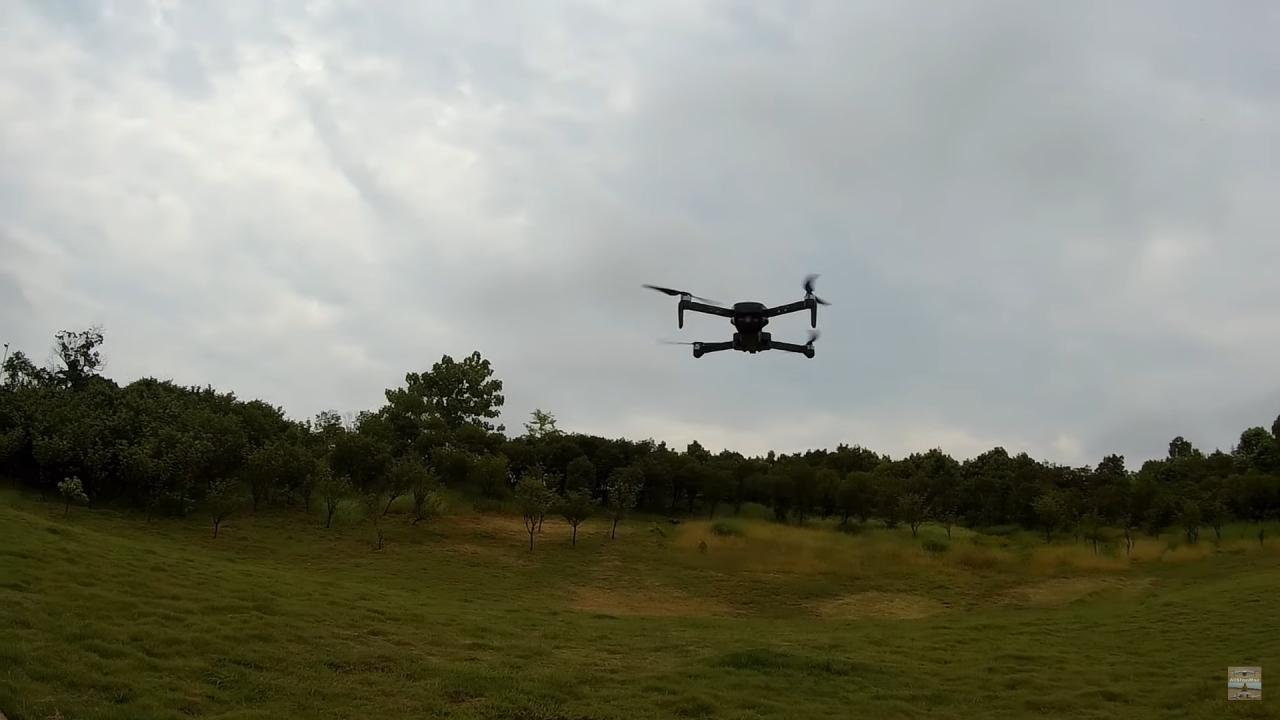Drone: (628, 260, 848, 374)
